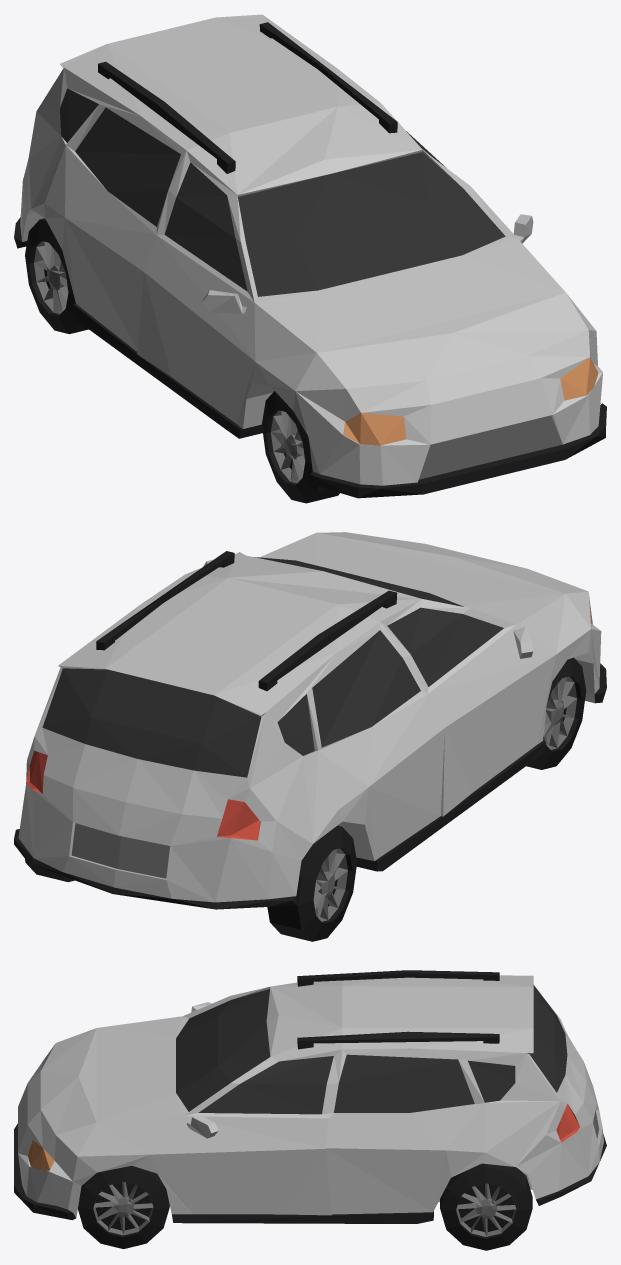
The model's file is suv.glb.
3 views of the same model, one above another, from view 1: azimuth 30°, elevation 25°; view 2: azimuth 150°, elevation 25°; view 3: azimuth 270°, elevation 25° (orthographic). The views are drawn at different scales.
Visible parts, largest first — view 1: SUV_Cube; view 2: SUV_Cube; view 3: SUV_Cube.
Boxes of the visible parts, x1,y1,x2,y2 form: SUV_Cube: (14, 14, 606, 503); SUV_Cube: (14, 532, 606, 941); SUV_Cube: (14, 970, 606, 1250).
Size of the model in its own units: 2.11 by 1.53 by 4.2.
1 material, 1 textured.
